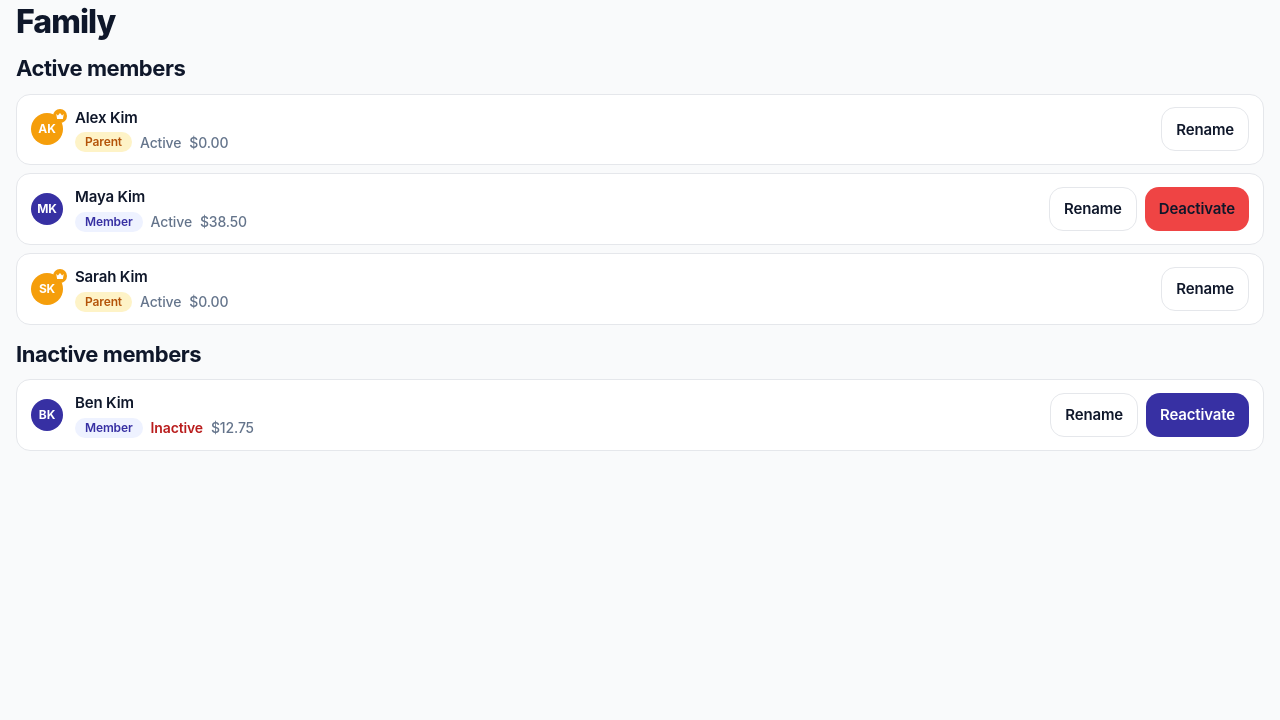
Test case: FamilyManagementScreen — Rename flow (BottomSheet, labelled input, validation, save/cancel) › clicking "Rename {name}" opens a BottomSheet (role=dialog) named for that member
Click the button "Rename" in the row of "$38.50" at coordinates (1093, 209), box [1049,187,1137,231]
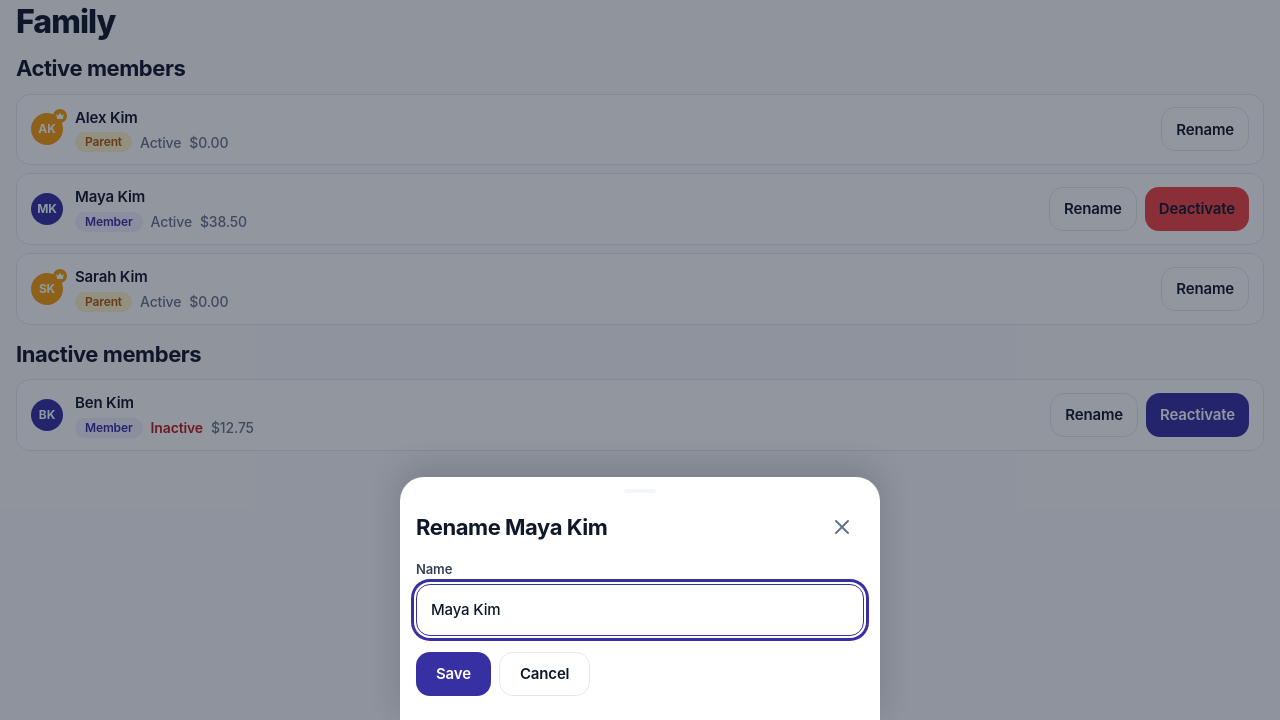
Expected: the dialog is shown, [400,477,880,719]
